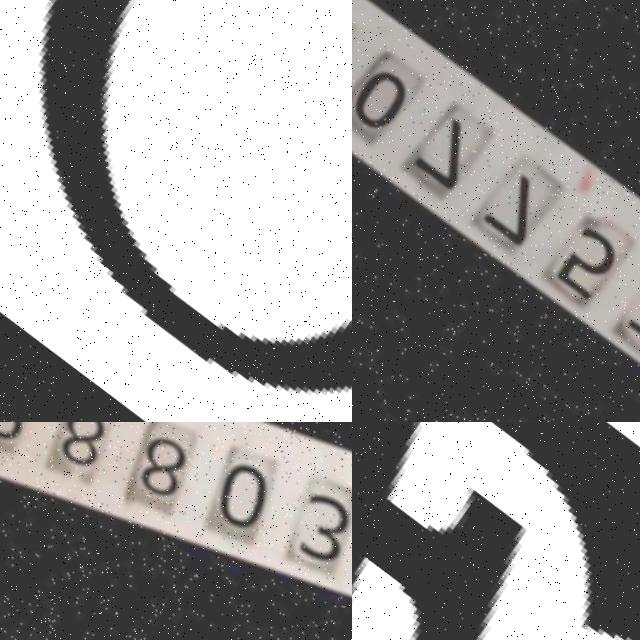0: (159, 427, 305, 565), (352, 30, 441, 166)
2: (0, 422, 64, 475)
3: (241, 461, 352, 595)
5: (498, 187, 640, 331), (319, 490, 352, 626)
7: (362, 78, 517, 225), (431, 135, 582, 277), (571, 241, 640, 383)
8: (85, 422, 217, 530), (5, 422, 136, 500)
E: (352, 422, 521, 640), (484, 422, 640, 640)
